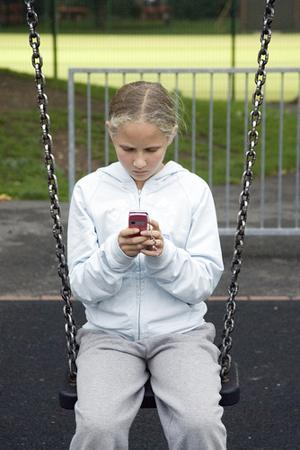person: (68, 81, 227, 447)
